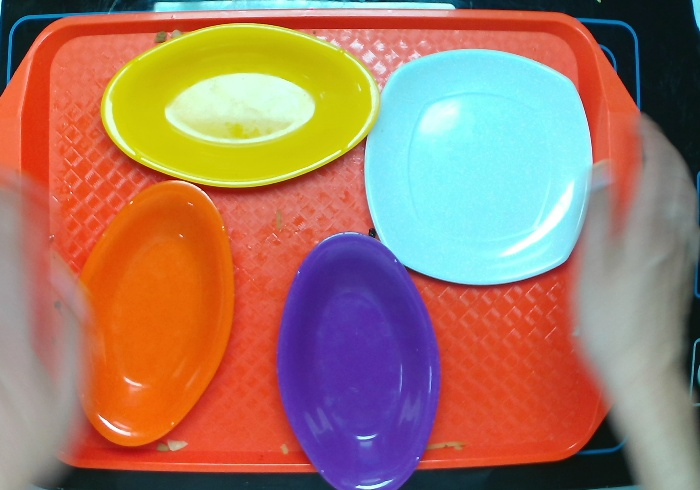RJxy-Fen_Hong_Tuo_Yuan: (272, 226, 446, 490)
RJxy-Huang_Se_Tuo_Yuan: (94, 20, 388, 193)
RJxy-Ju_Huang_Tuo_Yuan: (66, 176, 240, 451)
RJxy-Si_Fang_Die: (362, 46, 597, 290)
